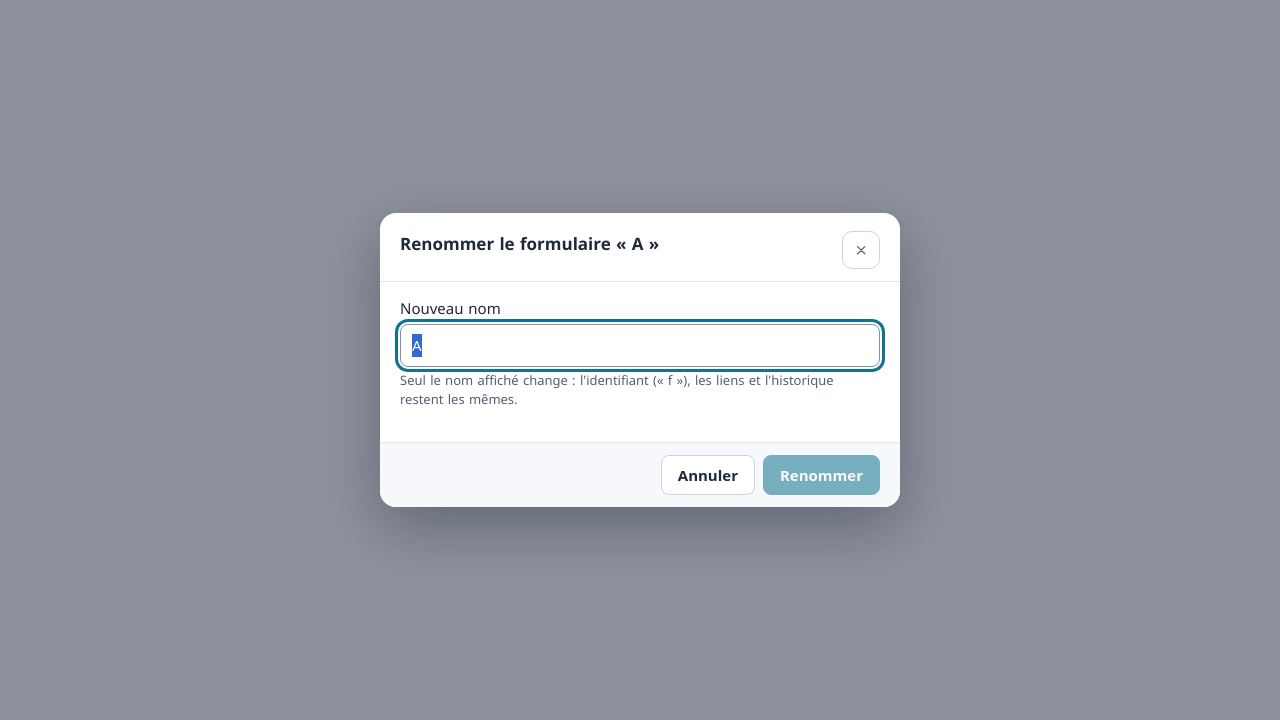
it: renommer › affiche l'erreur du serveur et laisse la fenêtre ouverte
Type "b" into the field labelled "Nouveau nom" at {"x": 640, "y": 346}, box [400, 324, 880, 367]
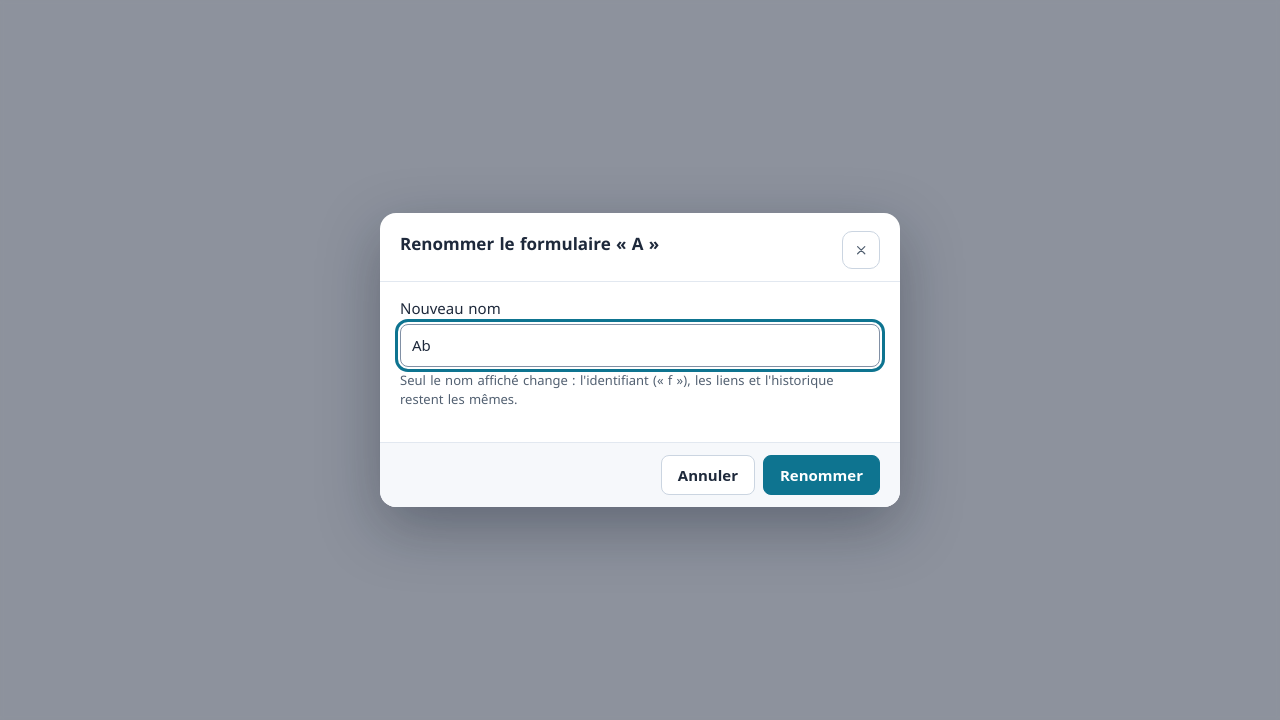
Click the button "Renommer" at {"x": 822, "y": 475}, box [763, 455, 880, 495]
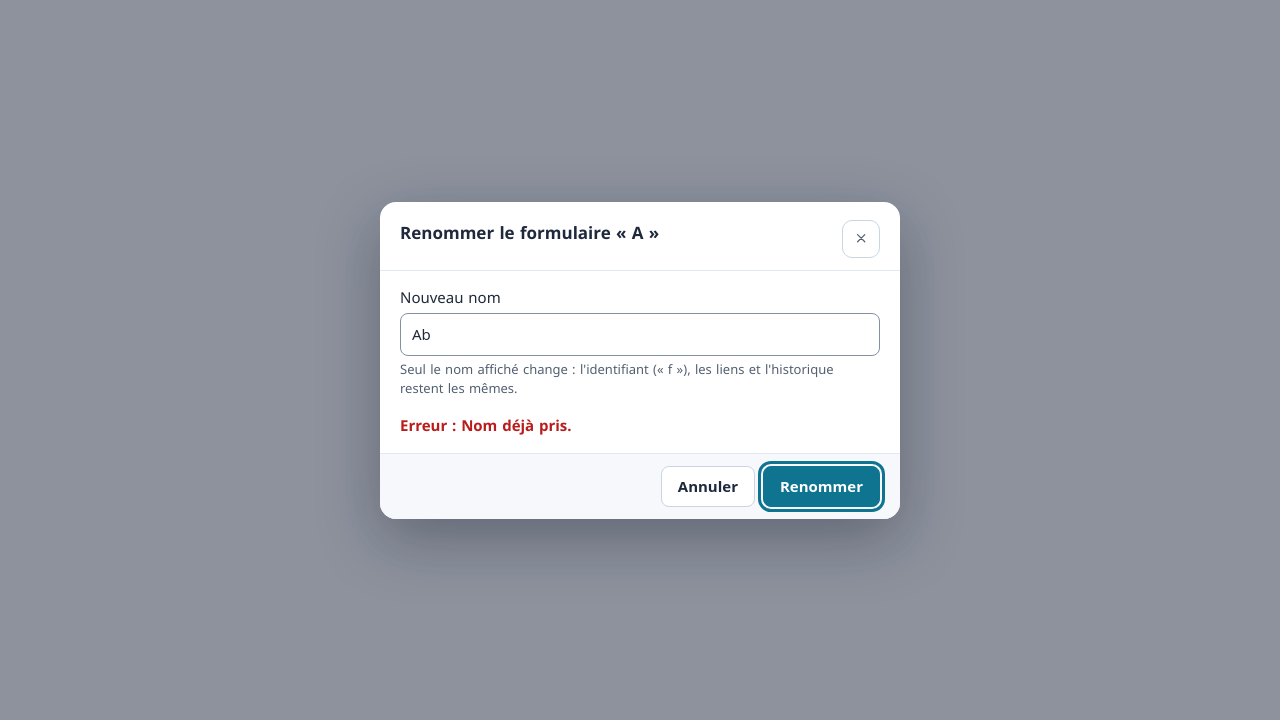
Expected: the message shows "Nom déjà pris.", [461, 416, 572, 436]
